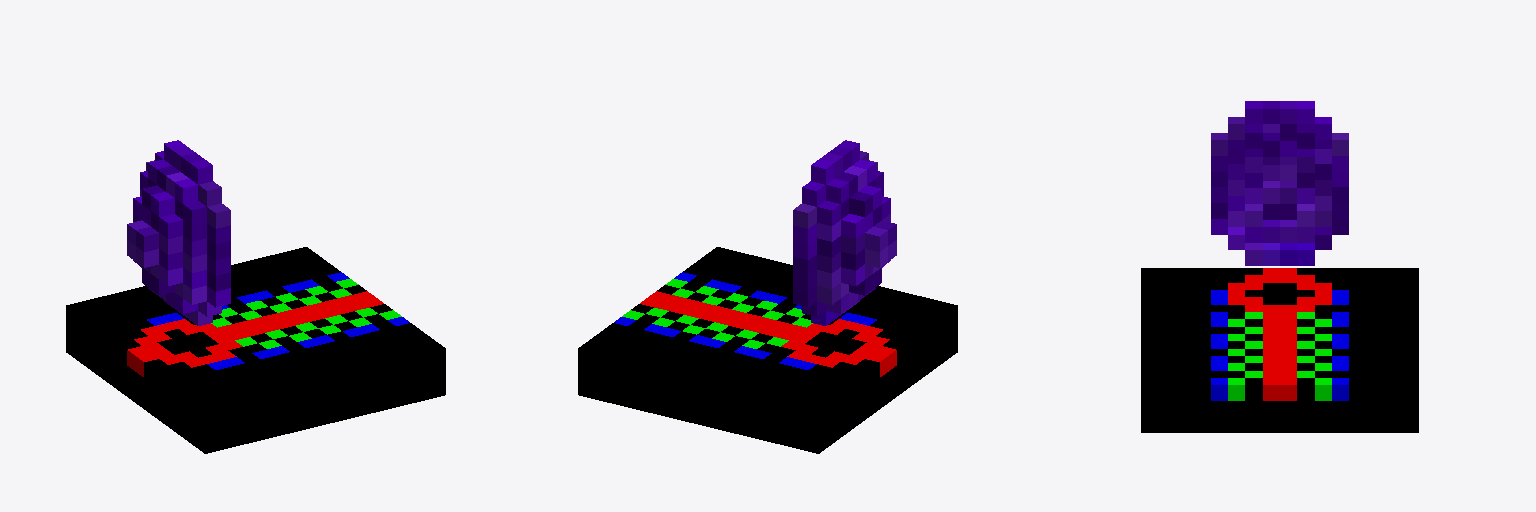
3 views of the same model, side by side, from view 1: azimuth 30°, elevation 25°; view 2: azimuth 150°, elevation 25°; view 3: azimuth 270°, elevation 25° (orthographic).
Visible parts, largest first — view 1: portal; view 2: portal; view 3: portal.
Boxes of the visible parts, box(x1,y1,x2,y2) form: portal: box(66, 140, 445, 453); portal: box(578, 140, 957, 453); portal: box(1141, 101, 1418, 432).
Bounding box in the file's own units: 16 × 15 × 16.
Materials: 1 (1 with a texture image).